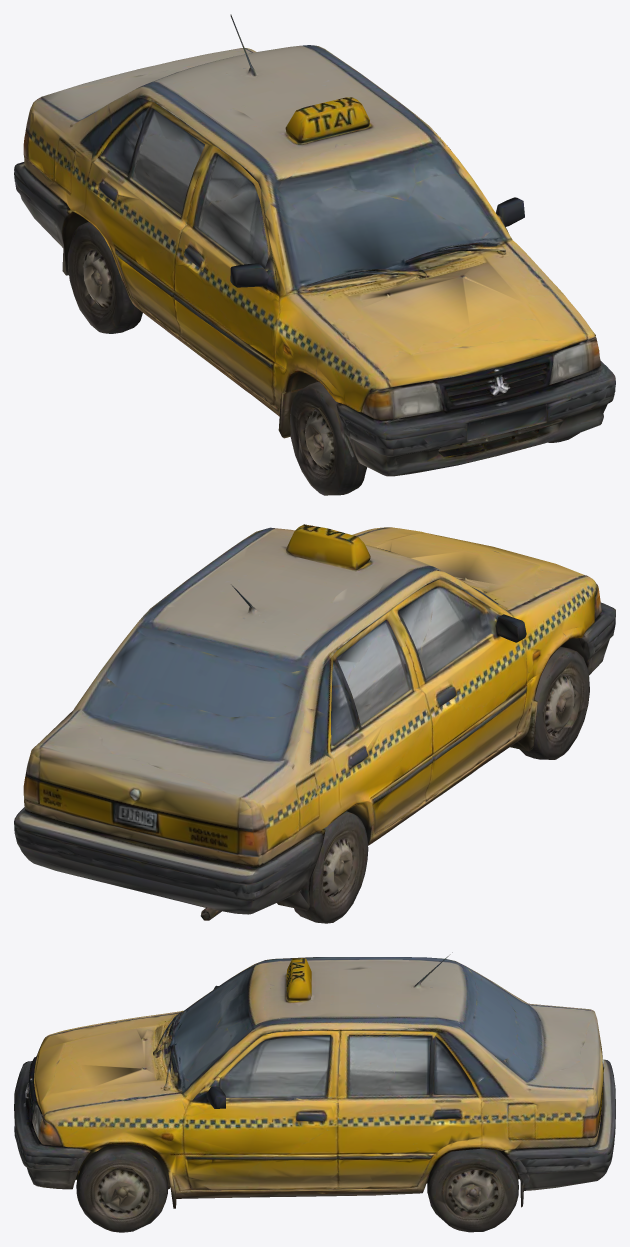
3 views of the same model, one above another, from view 1: azimuth 30°, elevation 25°; view 2: azimuth 150°, elevation 25°; view 3: azimuth 270°, elevation 25° (orthographic). The views are drawn at different scales.
Visible parts, largest first — view 1: node_0; view 2: node_0; view 3: node_0.
Part boxes in pixels (box(x1,y1,x2,y2)): node_0: box(14, 14, 615, 495); node_0: box(14, 524, 615, 923); node_0: box(14, 952, 615, 1232).
Size of the model in its own units: 0.5026 by 0.49 by 1.14.
Materials: 1 (1 with a texture image).
